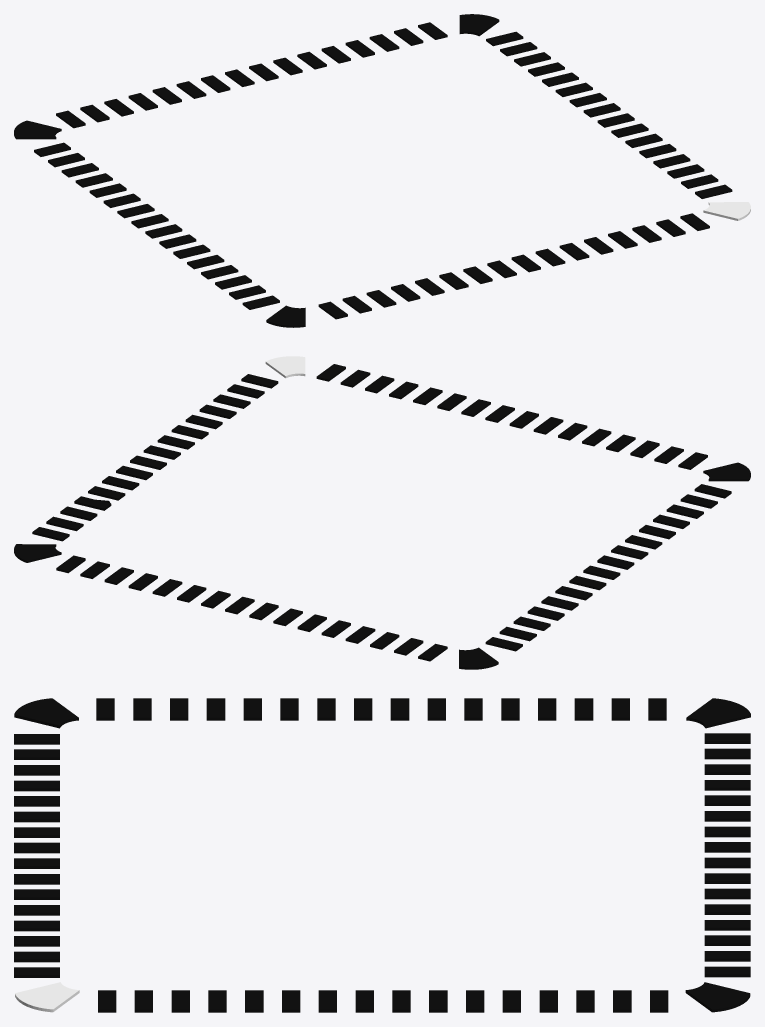
File: T5_stage_border.glb
3 views of the same model, one above another, from view 1: azimuth 30°, elevation 25°; view 2: azimuth 150°, elevation 25°; view 3: azimuth 270°, elevation 25° (orthographic). The views are drawn at different scales.
Parts seen in each view (by area): view 1: Stage_LE; view 2: Stage_LE; view 3: Stage_LE.
Boxes of the visible parts, x1,y1,x2,y2 form: Stage_LE: (14,14,750,327); Stage_LE: (14,356,750,669); Stage_LE: (14,698,750,1012).
Size of the model in its own units: 0.8002 by 0.007 by 0.8001.
1 material, 1 textured.
